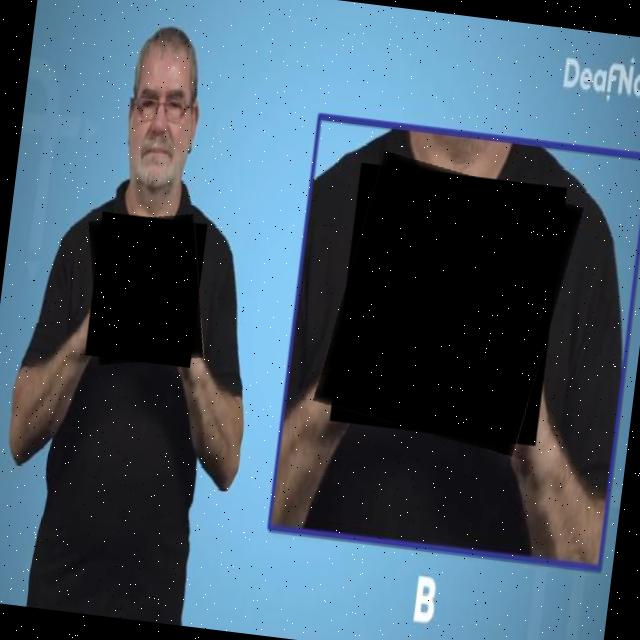B: (320, 156, 578, 456), (80, 208, 216, 374)
